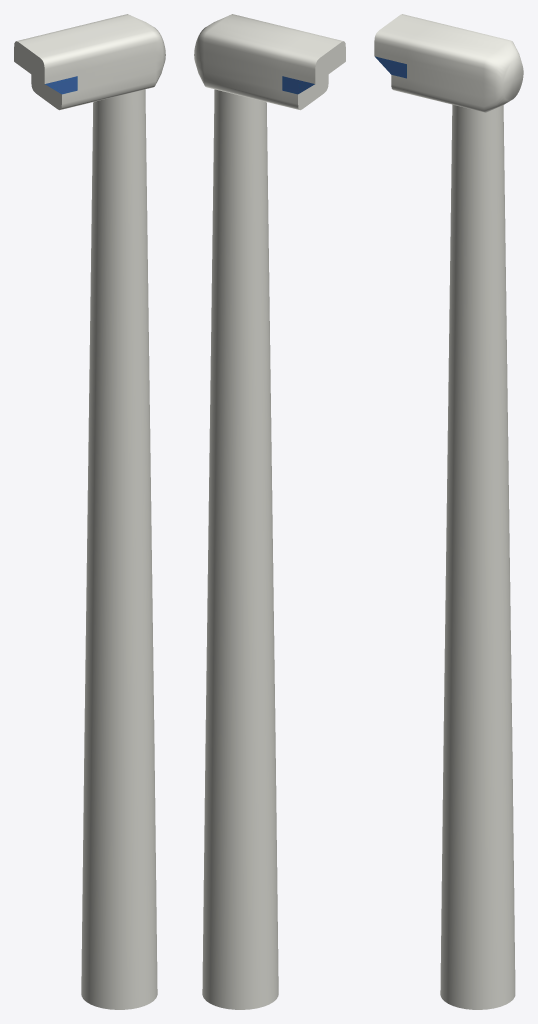
The model's file is cabin2.glb.
The picture shows the model from 3 angles, left to right: view 1: azimuth 30°, elevation 25°; view 2: azimuth 150°, elevation 25°; view 3: azimuth 330°, elevation 25°; orthographic projection.
Parts seen in each view (by area): view 1: Cylinder; view 2: Cylinder; view 3: Cylinder.
Boxes of the visible parts, x1=… form: Cylinder: x1=14, y1=14, x2=165, y2=1009; Cylinder: x1=194, y1=14, x2=345, y2=1009; Cylinder: x1=374, y1=14, x2=523, y2=1009.
Size of the model in its own units: 9.5 by 69.7 by 5.
1 material, 1 textured.
